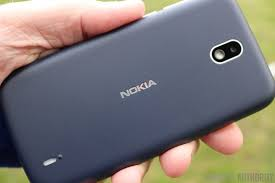nokia: (1, 1, 274, 183)
